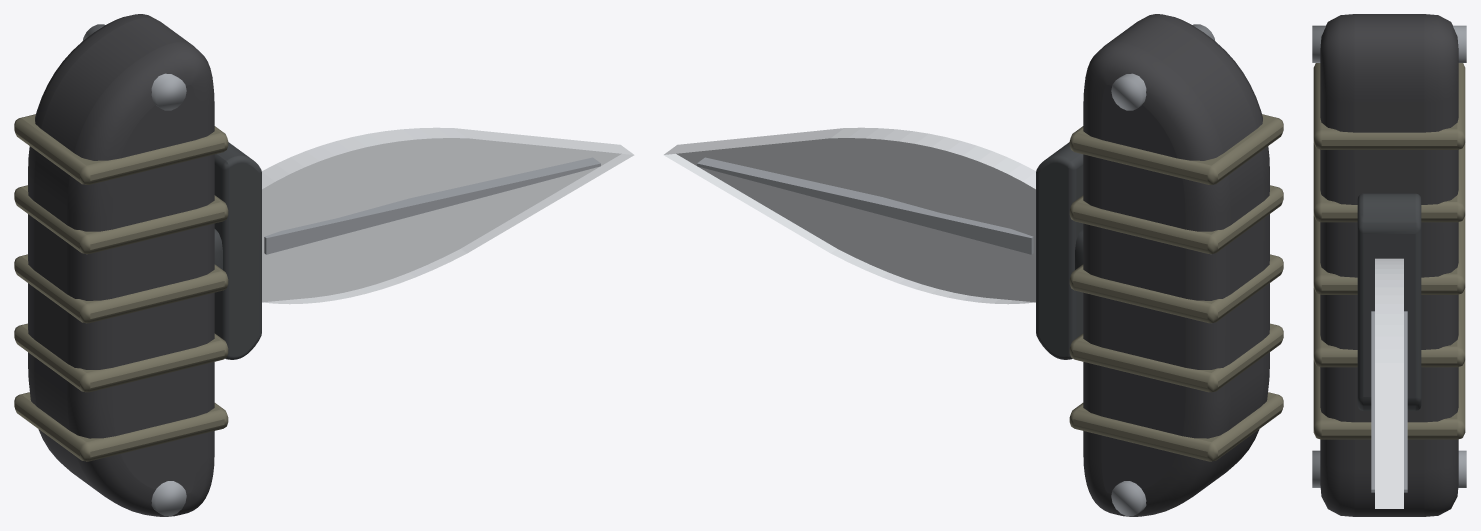
Rendered from knife_push.glb.
3 renders of one model, left to right at view 1: azimuth 30°, elevation 25°; view 2: azimuth 150°, elevation 25°; view 3: azimuth 270°, elevation 25°, orthographic. The views are drawn at different scales.
Visible parts, largest first — view 1: t_handle, blade, guard, ridge, wrap4, wrap0, wrap3, wrap2, wrap1, cap1, cap0; view 2: t_handle, blade, guard, ridge, wrap4, wrap0, wrap3, wrap2, wrap1, cap1, cap0; view 3: t_handle, guard, blade, wrap4, wrap0, wrap1, wrap3, wrap2, ridge, cap1, cap0.
Boxes of the visible parts, <box> form: t_handle: <box>28,14,214,516</box>; blade: <box>262,127,634,304</box>; guard: <box>214,142,261,359</box>; ridge: <box>264,157,600,254</box>; wrap4: <box>14,114,228,184</box>; wrap0: <box>14,392,228,461</box>; wrap3: <box>14,185,228,254</box>; wrap2: <box>14,254,228,323</box>; wrap1: <box>14,323,228,392</box>; cap1: <box>83,24,186,110</box>; cap0: <box>151,481,186,516</box>; t_handle: <box>1083,14,1269,516</box>; blade: <box>663,127,1035,304</box>; guard: <box>1036,142,1083,359</box>; ridge: <box>697,157,1033,254</box>; wrap4: <box>1069,114,1283,184</box>; wrap0: <box>1069,392,1283,461</box>; wrap3: <box>1069,185,1283,254</box>; wrap2: <box>1069,254,1283,323</box>; wrap1: <box>1069,323,1283,392</box>; cap1: <box>1111,24,1214,110</box>; cap0: <box>1111,481,1146,516</box>; t_handle: <box>1320,14,1458,516</box>; guard: <box>1357,193,1421,410</box>; blade: <box>1375,258,1403,508</box>; wrap4: <box>1313,63,1465,149</box>; wrap0: <box>1313,360,1465,439</box>; wrap1: <box>1313,288,1465,367</box>; wrap3: <box>1313,143,1465,222</box>; wrap2: <box>1313,216,1465,294</box>; ridge: <box>1371,311,1407,492</box>; cap1: <box>1312,25,1466,62</box>; cap0: <box>1312,450,1466,487</box>.
Size of the model in its own units: 0.1318 by 0.1016 by 0.029.
